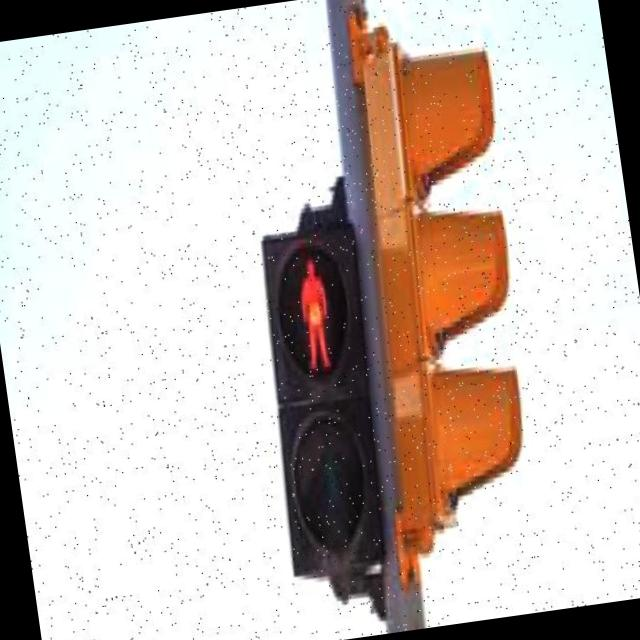red_light: (267, 255, 357, 385)
